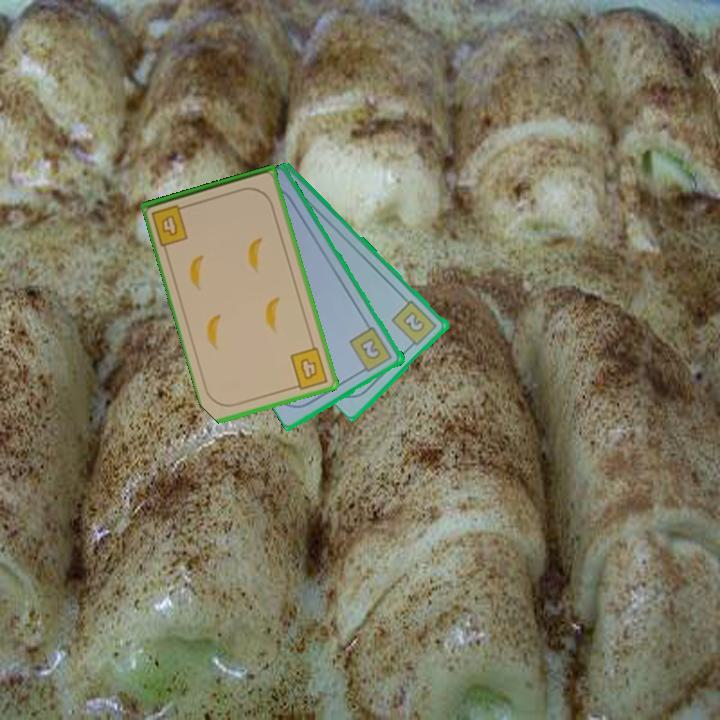2b: (388, 297, 440, 352), (346, 324, 396, 376)
4b: (287, 344, 331, 392), (148, 201, 192, 249)
